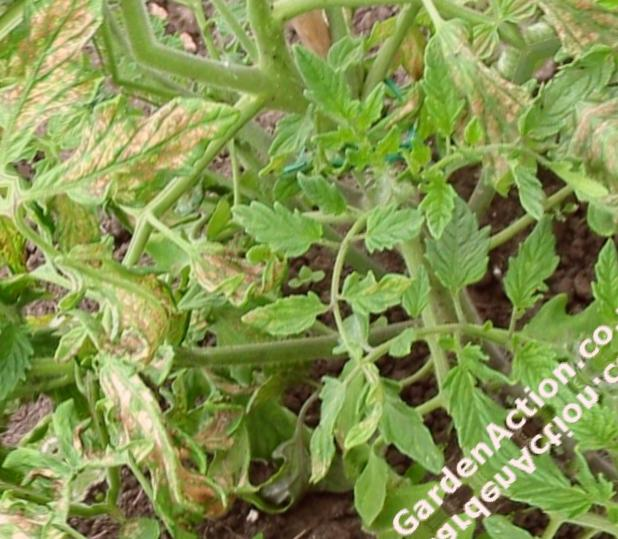Tomato leaf mosaic virus: (395, 181, 517, 303), (383, 36, 501, 155), (265, 367, 383, 485), (481, 213, 593, 325), (273, 30, 381, 140), (354, 374, 459, 480), (227, 170, 332, 274), (241, 267, 334, 361), (337, 250, 424, 337), (500, 77, 582, 158), (356, 189, 435, 268), (0, 310, 57, 406), (563, 236, 618, 326)
